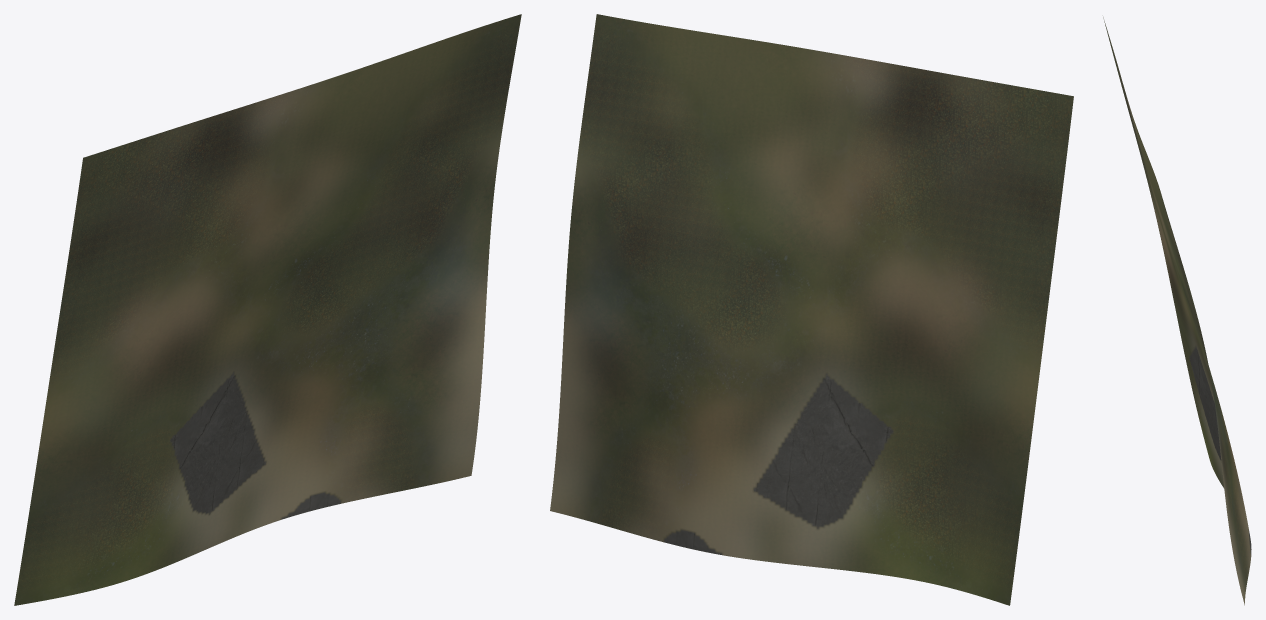
The model's file is ground_core_04_02.obj.
3 views of the same model, side by side, from view 1: azimuth 30°, elevation 25°; view 2: azimuth 150°, elevation 25°; view 3: azimuth 270°, elevation 25° (orthographic). The views are drawn at different scales.
Visible parts, largest first — view 1: ground_core_04_02; view 2: ground_core_04_02; view 3: ground_core_04_02.
Boxes of the visible parts, left/top/right/bottom form: ground_core_04_02: left=14, top=14, right=521, bottom=605; ground_core_04_02: left=550, top=14, right=1073, bottom=605; ground_core_04_02: left=1103, top=17, right=1251, bottom=605.
Size of the model in its own units: 50 by 50 by 16.73.
Materials: 1 (1 with a texture image).
